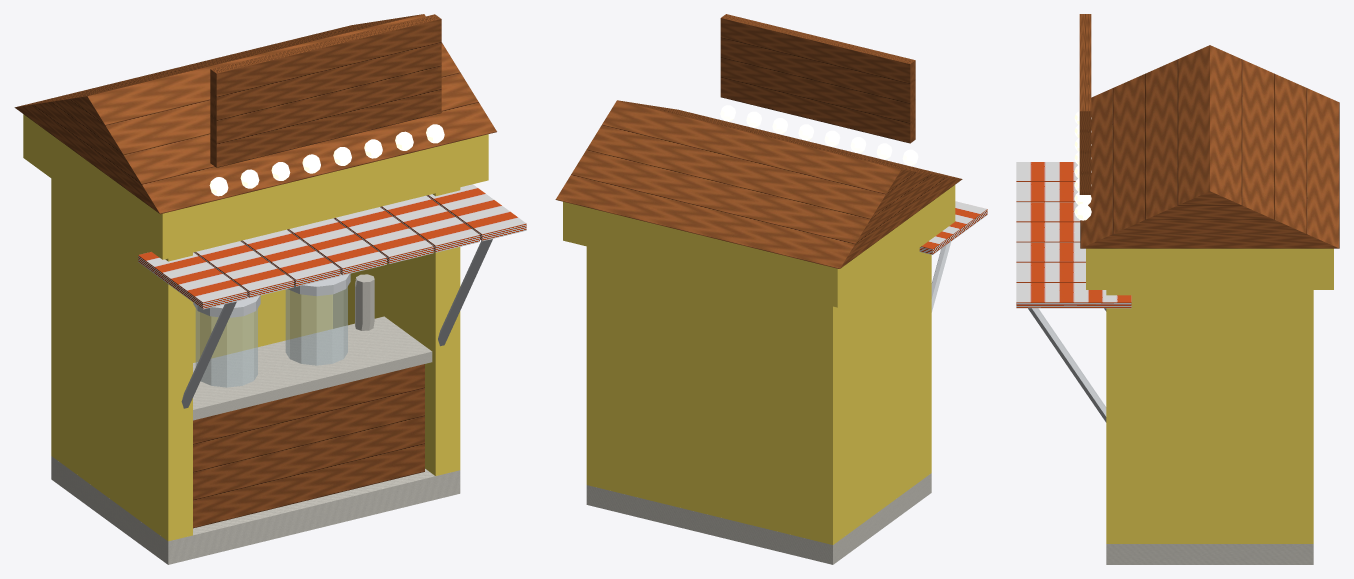
Rendered from theme-park-rides-and-coasters-theme-park-rides-and-coa-1f63792e__28682.glb.
The picture shows the model from 3 angles, left to right: view 1: azimuth 30°, elevation 25°; view 2: azimuth 150°, elevation 25°; view 3: azimuth 270°, elevation 25°; orthographic projection. The views are drawn at different scales.
Visible parts, largest first — view 1: theme-park-rides-and-coasters-lemonade-stand; view 2: theme-park-rides-and-coasters-lemonade-stand; view 3: theme-park-rides-and-coasters-lemonade-stand.
Boxes of the visible parts, x1,y1,x2,y2 form: theme-park-rides-and-coasters-lemonade-stand: (14,14,526,564); theme-park-rides-and-coasters-lemonade-stand: (555,14,987,564); theme-park-rides-and-coasters-lemonade-stand: (1016,14,1339,564).
Bounding box in the file's own units: 3 × 4.2 × 2.81.
7 materials, 3 textured.
